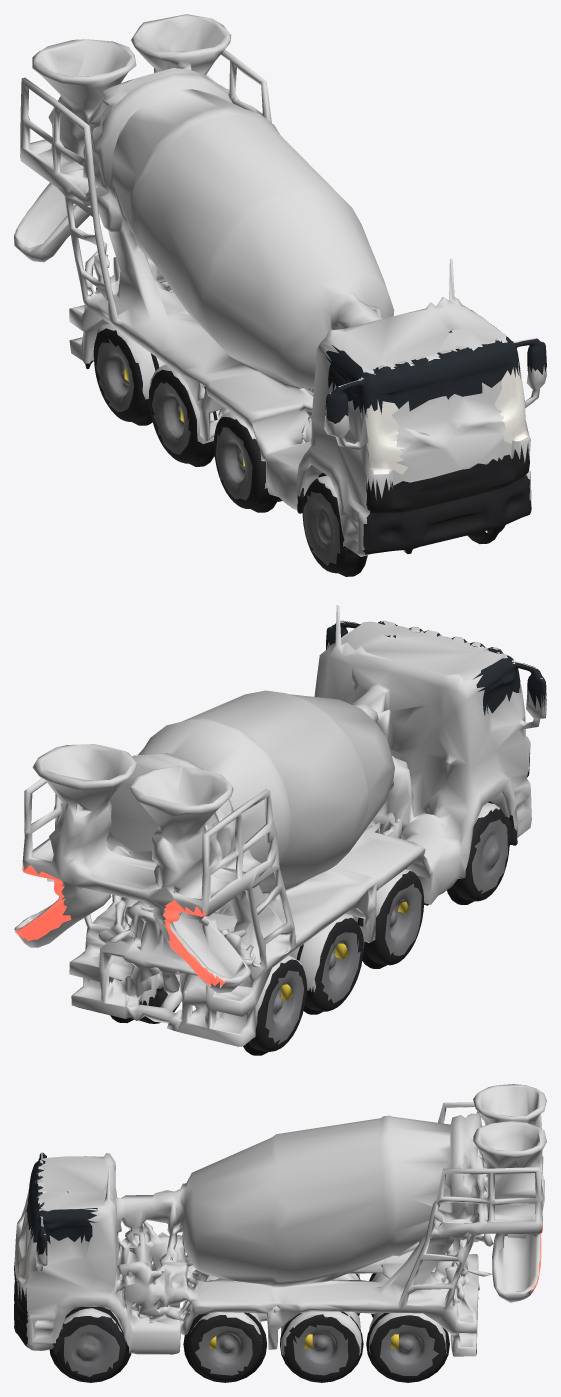
Rendered from MixerTruck.fbx.
The picture shows the model from 3 angles, top to bottom: view 1: azimuth 30°, elevation 25°; view 2: azimuth 150°, elevation 25°; view 3: azimuth 270°, elevation 25°; orthographic projection. The views are drawn at different scales.
Parts seen in each view (by area): view 1: Body_Paint, Body_Trim, Glass, LightsFront, Wheel_FL_rim, Wheel_SL_rim, Wheel_TL_rim, Wheel_RL_rim, Wheel_SL_tyre, Wheel_RL_tyre, Wheel_TL_tyre, Wheel_FL_tyre; view 2: Body_Paint, Glass, LightsRear, Wheel_FL_rim, Wheel_SL_rim, Wheel_RL_rim, Wheel_TL_rim, Wheel_FL_tyre, Wheel_SL_tyre, Wheel_RL_tyre, Wheel_TL_tyre, Body_Trim; view 3: Body_Paint, Glass, Wheel_FR_rim, Wheel_TR_rim, Wheel_RR_rim, Wheel_SR_rim, Wheel_SR_tyre, Wheel_RR_tyre, Wheel_TR_tyre, Wheel_FR_tyre, Body_Trim, Well_SR (+4 smaller).
Boxes of the visible parts, x1=… form: Body_Paint: x1=14, y1=14, x2=546, y2=556; Body_Trim: x1=84, y1=360, x2=531, y2=570; Glass: x1=325, y1=310, x2=546, y2=423; LightsFront: x1=365, y1=362, x2=527, y2=474; Wheel_FL_rim: x1=303, y1=491, x2=340, y2=565; Wheel_SL_rim: x1=216, y1=427, x2=252, y2=500; Wheel_TL_rim: x1=152, y1=382, x2=190, y2=454; Wheel_RL_rim: x1=96, y1=338, x2=134, y2=412; Wheel_SL_tyre: x1=214, y1=417, x2=266, y2=508; Wheel_RL_tyre: x1=93, y1=328, x2=150, y2=421; Wheel_TL_tyre: x1=149, y1=369, x2=202, y2=463; Wheel_FL_tyre: x1=297, y1=478, x2=357, y2=573; Body_Paint: x1=14, y1=605, x2=546, y2=1046; Glass: x1=326, y1=620, x2=546, y2=715; LightsRear: x1=15, y1=862, x2=226, y2=986; Wheel_FL_rim: x1=472, y1=819, x2=507, y2=893; Wheel_SL_rim: x1=385, y1=883, x2=421, y2=955; Wheel_RL_rim: x1=265, y1=970, x2=303, y2=1044; Wheel_TL_rim: x1=321, y1=932, x2=360, y2=1003; Wheel_FL_tyre: x1=454, y1=808, x2=517, y2=901; Wheel_SL_tyre: x1=366, y1=871, x2=424, y2=965; Wheel_RL_tyre: x1=253, y1=959, x2=306, y2=1051; Wheel_TL_tyre: x1=310, y1=917, x2=363, y2=1011; Body_Trim: x1=75, y1=753, x2=529, y2=1049; Body_Paint: x1=14, y1=1084, x2=546, y2=1356; Glass: x1=26, y1=1153, x2=97, y2=1255; Wheel_FR_rim: x1=64, y1=1324, x2=119, y2=1376; Wheel_TR_rim: x1=293, y1=1325, x2=348, y2=1375; Wheel_RR_rim: x1=380, y1=1324, x2=438, y2=1375; Wheel_SR_rim: x1=195, y1=1326, x2=252, y2=1375; Wheel_SR_tyre: x1=188, y1=1315, x2=262, y2=1381; Wheel_RR_tyre: x1=370, y1=1315, x2=445, y2=1381; Wheel_TR_tyre: x1=284, y1=1315, x2=359, y2=1381; Wheel_FR_tyre: x1=52, y1=1316, x2=128, y2=1381; Body_Trim: x1=14, y1=1262, x2=476, y2=1370; Well_SR: x1=183, y1=1312, x2=266, y2=1382.
Size of the model in its own units: 1211 by 1589 by 3200.
